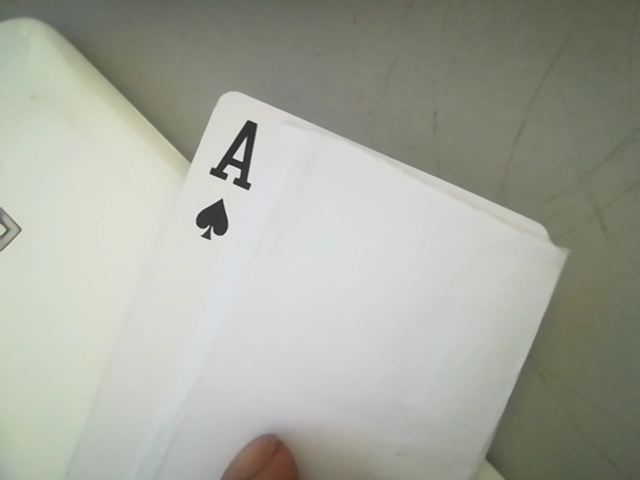ht a: (186, 102, 278, 247)
